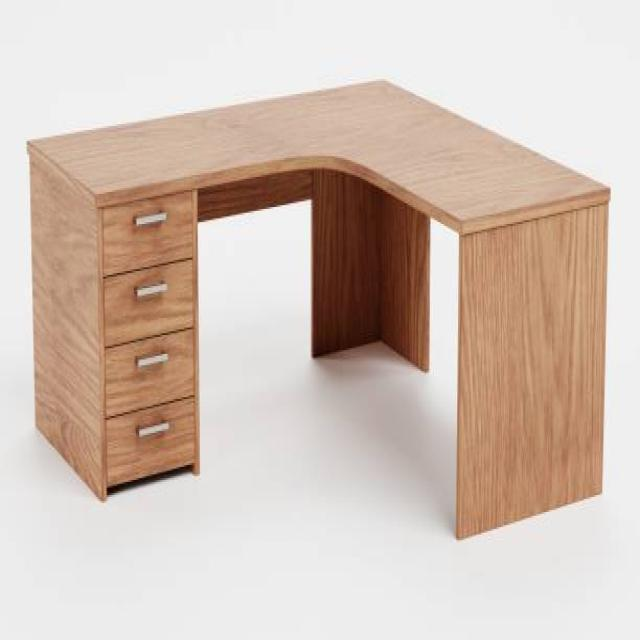table: (25, 76, 611, 538)
